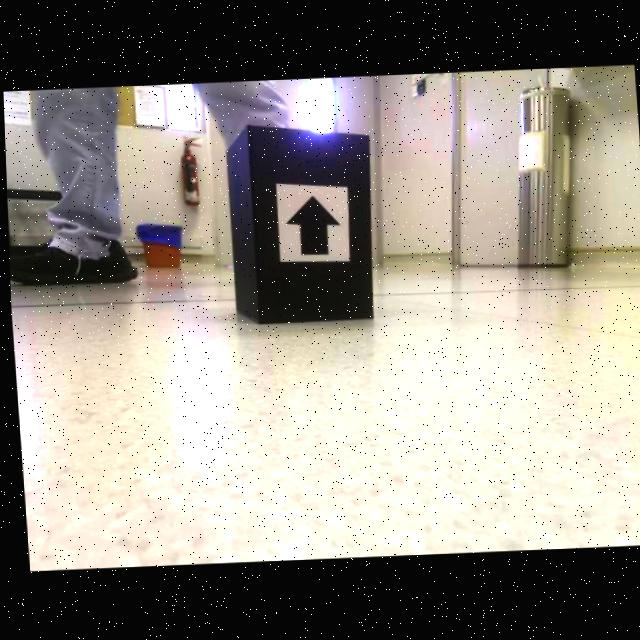UP: (284, 195, 340, 257)
